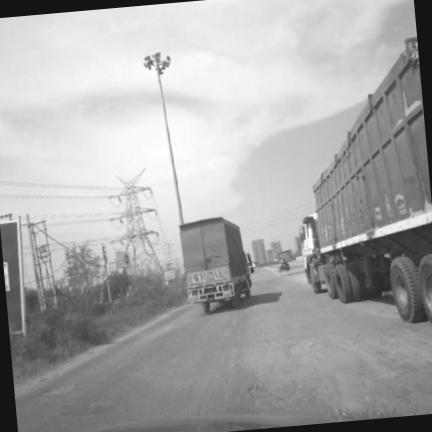Road: (15, 266, 431, 431)
